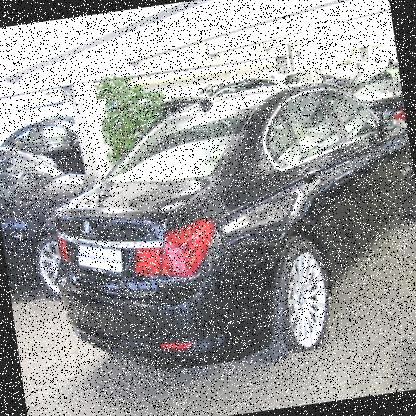Car: (0, 56, 415, 392)
